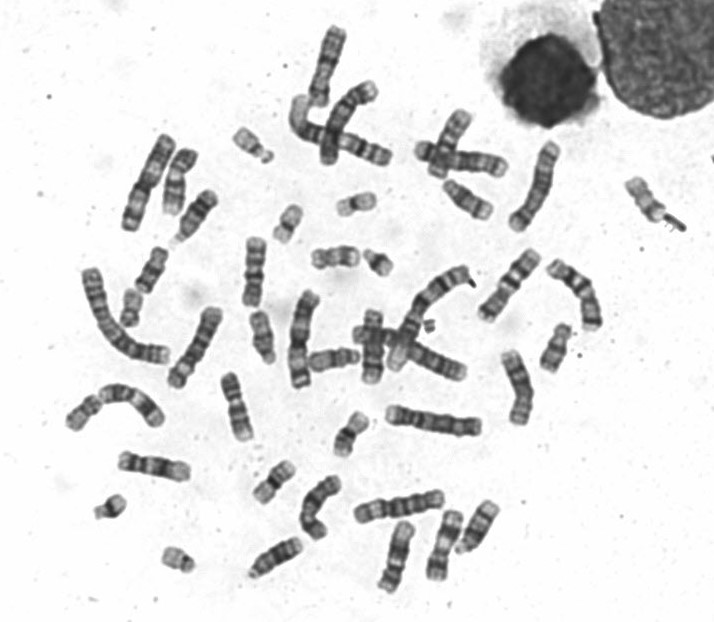chromosomes: (70, 262, 179, 371), (283, 87, 398, 173), (387, 261, 474, 374), (347, 323, 470, 387), (116, 130, 182, 239), (504, 137, 570, 242), (473, 245, 548, 334), (316, 78, 388, 170), (164, 301, 228, 394), (542, 255, 610, 334), (304, 18, 361, 109), (409, 133, 514, 182), (286, 283, 328, 395), (350, 483, 451, 529), (424, 104, 481, 183), (379, 400, 488, 441), (211, 367, 263, 452), (418, 504, 468, 590), (156, 142, 208, 222), (169, 183, 227, 252), (451, 494, 509, 562), (295, 469, 346, 546), (373, 517, 422, 597), (97, 380, 173, 431), (495, 347, 540, 431), (616, 168, 672, 233), (114, 445, 200, 487), (243, 534, 308, 585), (436, 175, 499, 226), (247, 453, 301, 510), (357, 303, 392, 390), (226, 120, 281, 172), (243, 303, 284, 370), (327, 405, 375, 462), (305, 239, 366, 280), (537, 320, 580, 377), (78, 485, 134, 528), (240, 230, 269, 313), (302, 342, 373, 375), (133, 241, 174, 297), (60, 388, 106, 437), (270, 200, 314, 250), (331, 185, 382, 226), (155, 539, 203, 578), (358, 239, 400, 283), (112, 286, 150, 331)
